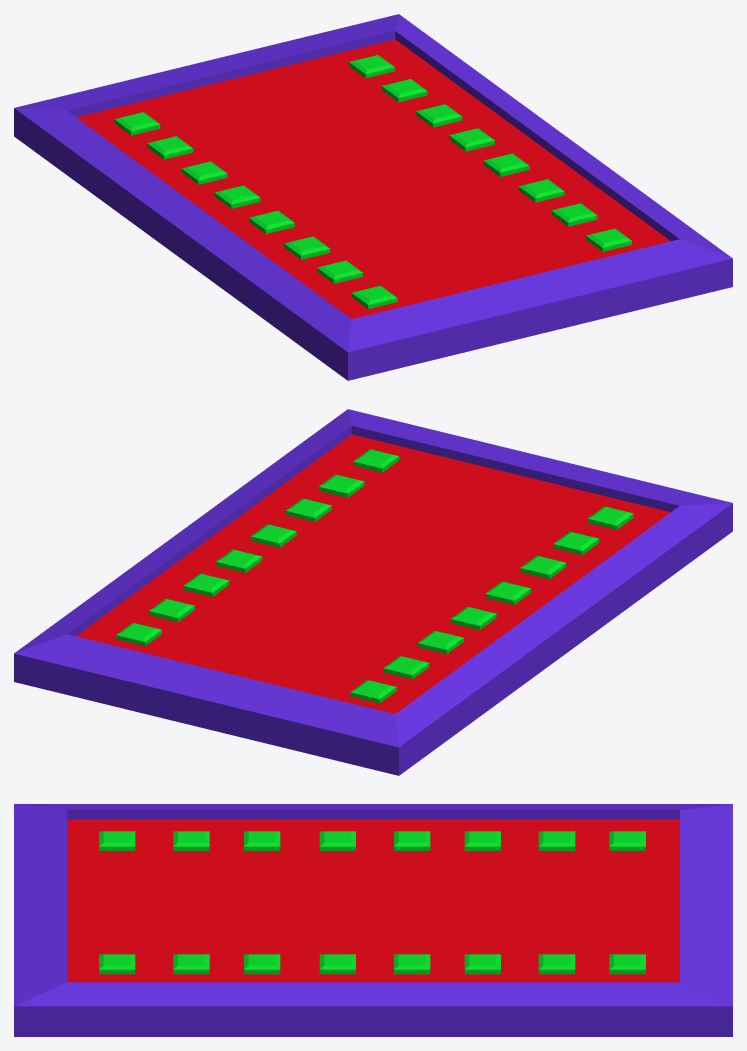
File: BasicWallUVID.fbx
3 views of the same model, one above another, from view 1: azimuth 30°, elevation 25°; view 2: azimuth 150°, elevation 25°; view 3: azimuth 270°, elevation 25° (orthographic). The views are drawn at different scales.
Parts seen in each view (by area): view 1: Wall3, Cube; view 2: Wall3, Cube; view 3: Wall3, Cube.
Boxes of the visible parts, x1,y1,x2,y2 form: Wall3: [14, 14, 732, 380]; Cube: [114, 55, 631, 309]; Wall3: [14, 409, 732, 775]; Cube: [116, 449, 633, 703]; Wall3: [14, 804, 732, 1036]; Cube: [99, 831, 645, 974].
Bounding box in the file's own units: 65.75 × 5.99 × 98.79.
